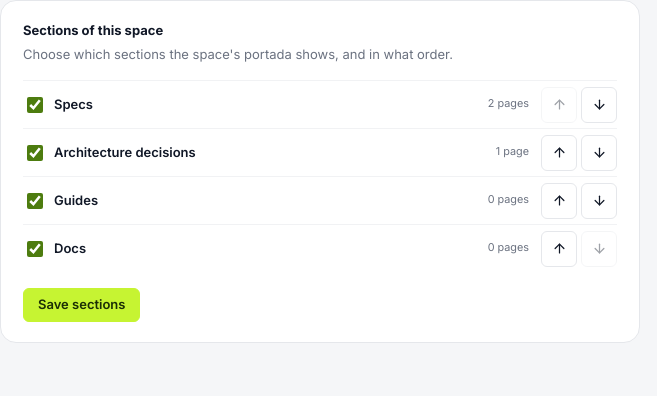
Test: SpaceSectionsEditor › shows why saving failed
What coordinates should you click on to do the following:
click the button "Save sections"
I would click on:
 (82, 305)
Its box is top-left (23, 288), bottom-right (140, 322).
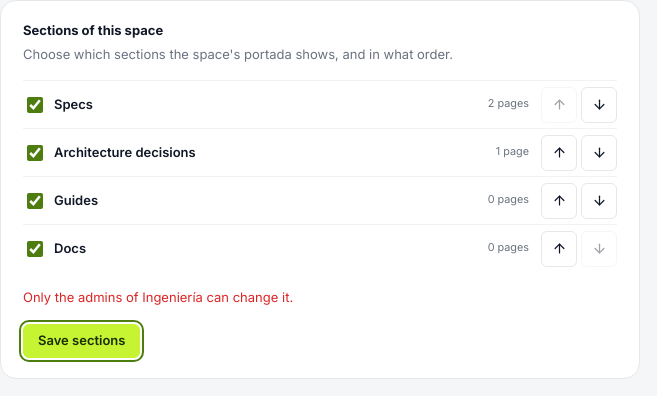
Now the message shows "Only the admins", box top-left (23, 289), bottom-right (293, 305)
